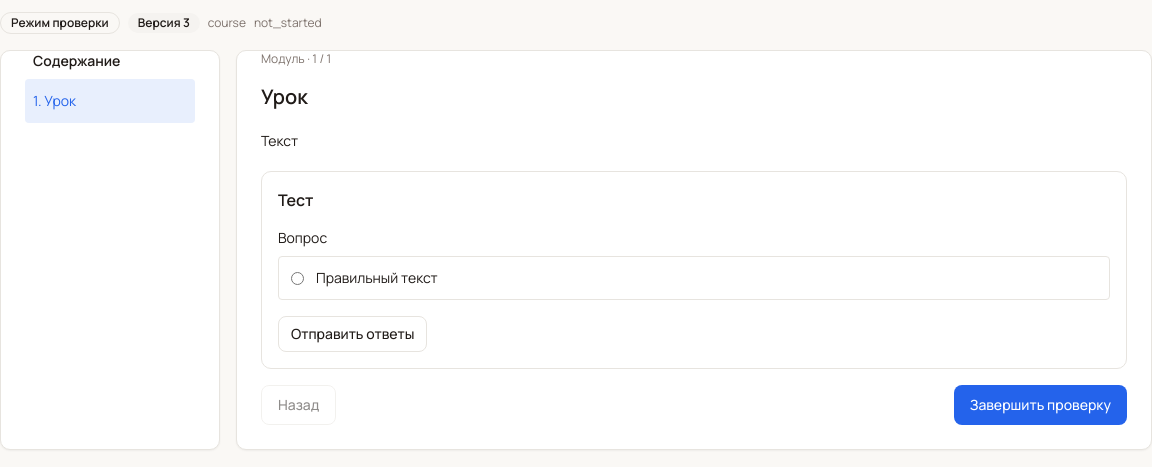
Test: course approval workflow UI › sends interactive quiz answers only through the review progress endpoint
Click the radio button labelled "Правильный текст" at point(298, 278), box [291,272,304,284]
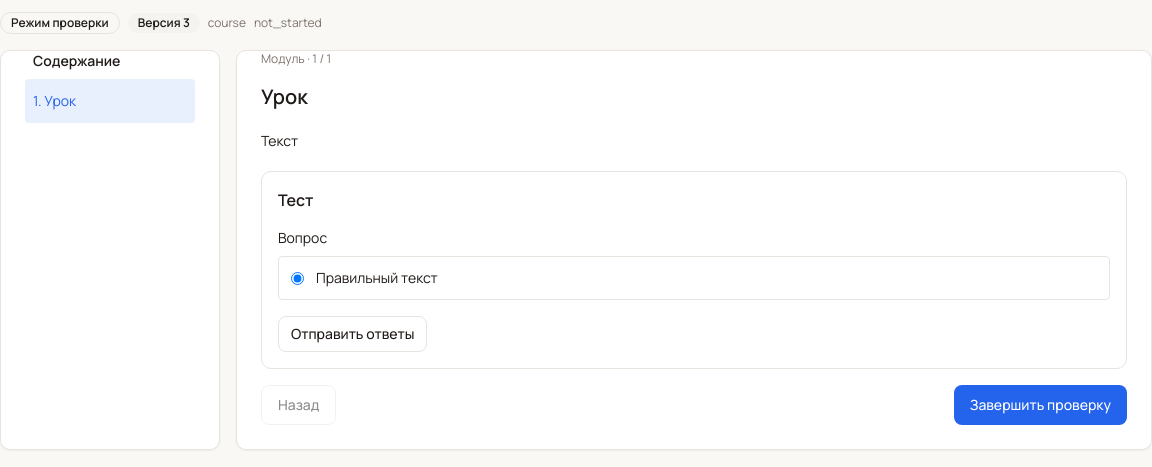
Click the button "Отправить ответы" at point(353, 334), box [278,316,427,352]
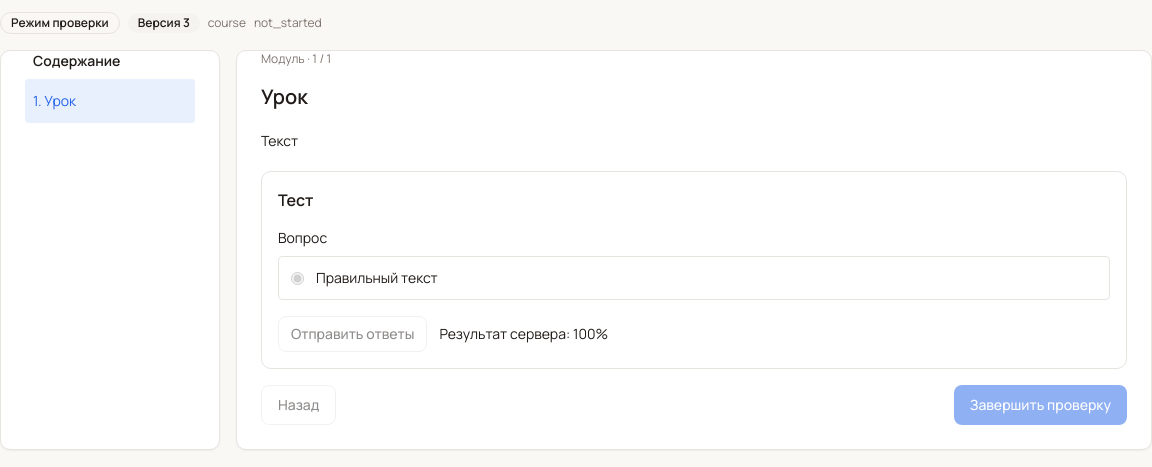
Now the message shows "100%", box [573,324,608,343]
